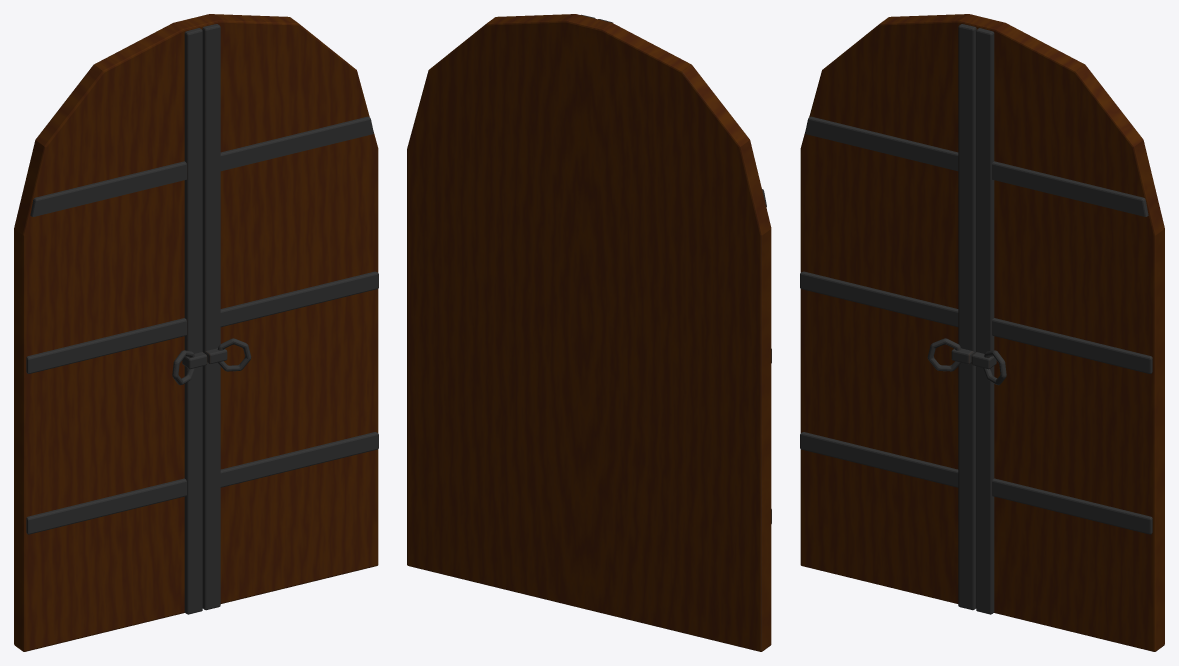
The model's file is Building_3_door.fbx.
The picture shows the model from 3 angles, left to right: view 1: azimuth 30°, elevation 25°; view 2: azimuth 150°, elevation 25°; view 3: azimuth 330°, elevation 25°; orthographic projection.
Parts seen in each view (by area): view 1: NewDoor_3.001; view 2: NewDoor_3.001; view 3: NewDoor_3.001.
Boxes of the visible parts, x1,y1,x2,y2 form: NewDoor_3.001: (14,14,378,651); NewDoor_3.001: (407,14,771,651); NewDoor_3.001: (800,14,1164,651).
Size of the model in its own units: 7.65 by 70.14 by 110.
1 material, 1 textured.
